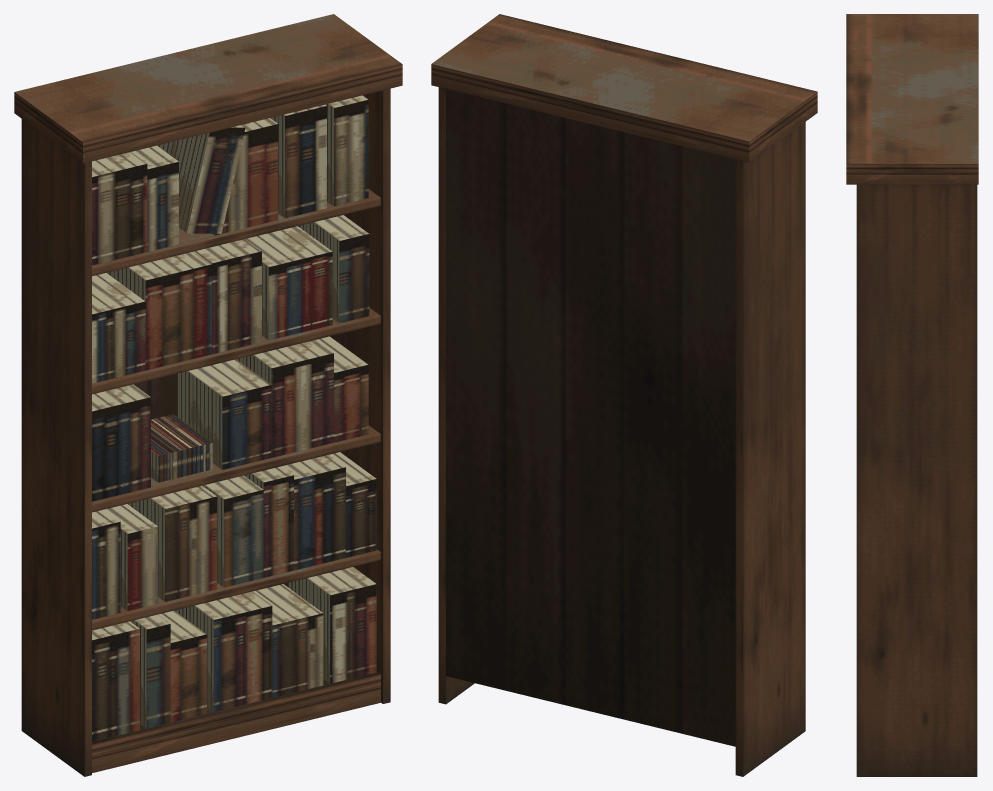
File: bookshelf_books.obj
The picture shows the model from 3 angles, left to right: view 1: azimuth 30°, elevation 25°; view 2: azimuth 150°, elevation 25°; view 3: azimuth 270°, elevation 25°; orthographic projection. The views are drawn at different scales.
Visible parts, largest first — view 1: bookshelf_books; view 2: bookshelf_books; view 3: bookshelf_books.
Boxes of the visible parts, bbox=[...] form: bookshelf_books: bbox=[14, 14, 402, 776]; bookshelf_books: bbox=[431, 14, 817, 776]; bookshelf_books: bbox=[846, 14, 978, 776].
Size of the model in its own units: 0.94 by 1.8 by 0.35.
1 material, 1 textured.
